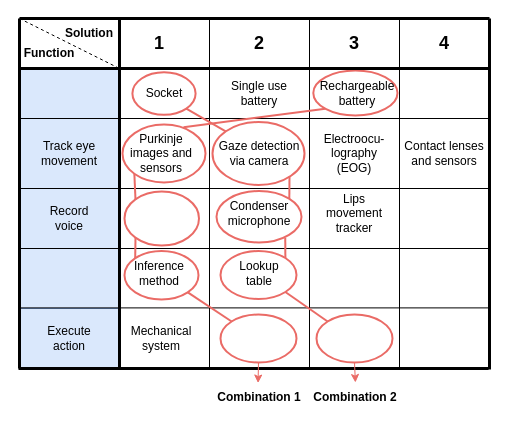
Some shapes in this 509 by 430 pixel diagram are drawn without their labels. Here are the shapes that lost their labels. From the top down, the box of each, then its label:
(18, 68, 120, 118): Supply energy
(123, 190, 200, 246): Regular microphone
(18, 248, 120, 308): Interpret action
(219, 313, 297, 363): Driver
(315, 313, 393, 363): Game API
